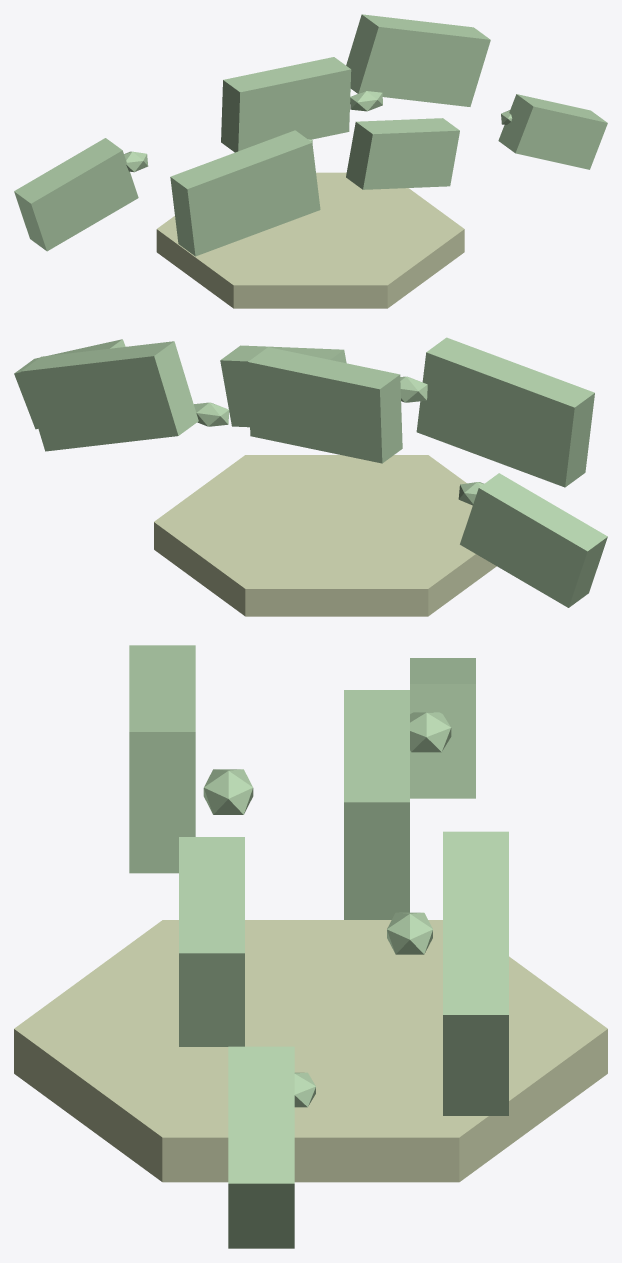
The model's file is COASTAL_GROUND_COVER_001_v002_LOD_CLOSE.glb.
3 views of the same model, one above another, from view 1: azimuth 30°, elevation 25°; view 2: azimuth 150°, elevation 25°; view 3: azimuth 270°, elevation 25° (orthographic). The views are drawn at different scales.
Parts seen in each view (by area): view 1: COASTAL_GROUND_COVER_001_LOD_CLOSE_GROUND_SOCKET, COASTAL_GROUND_COVER_001_LOD_CLOSE_PATCH_002, COASTAL_GROUND_COVER_001_LOD_CLOSE_PATCH_005, COASTAL_GROUND_COVER_001_LOD_CLOSE_PATCH_003, COASTAL_GROUND_COVER_001_LOD_CLOSE_PATCH_001, COASTAL_GROUND_COVER_001_LOD_CLOSE_PATCH_004, COASTAL_GROUND_COVER_001_LOD_CLOSE_PATCH_006, COASTAL_GROUND_COVER_001_LOD_CLOSE_CLUSTER_003, COASTAL_GROUND_COVER_001_LOD_CLOSE_CLUSTER_001; view 2: COASTAL_GROUND_COVER_001_LOD_CLOSE_GROUND_SOCKET, COASTAL_GROUND_COVER_001_LOD_CLOSE_PATCH_002, COASTAL_GROUND_COVER_001_LOD_CLOSE_PATCH_005, COASTAL_GROUND_COVER_001_LOD_CLOSE_PATCH_003, COASTAL_GROUND_COVER_001_LOD_CLOSE_PATCH_001, COASTAL_GROUND_COVER_001_LOD_CLOSE_PATCH_004, COASTAL_GROUND_COVER_001_LOD_CLOSE_PATCH_006, COASTAL_GROUND_COVER_001_LOD_CLOSE_CLUSTER_003, COASTAL_GROUND_COVER_001_LOD_CLOSE_CLUSTER_002, COASTAL_GROUND_COVER_001_LOD_CLOSE_CLUSTER_001; view 3: COASTAL_GROUND_COVER_001_LOD_CLOSE_GROUND_SOCKET, COASTAL_GROUND_COVER_001_LOD_CLOSE_PATCH_005, COASTAL_GROUND_COVER_001_LOD_CLOSE_PATCH_003, COASTAL_GROUND_COVER_001_LOD_CLOSE_PATCH_002, COASTAL_GROUND_COVER_001_LOD_CLOSE_PATCH_004, COASTAL_GROUND_COVER_001_LOD_CLOSE_PATCH_006, COASTAL_GROUND_COVER_001_LOD_CLOSE_PATCH_001, COASTAL_GROUND_COVER_001_LOD_CLOSE_CLUSTER_002, COASTAL_GROUND_COVER_001_LOD_CLOSE_CLUSTER_003, COASTAL_GROUND_COVER_001_LOD_CLOSE_CLUSTER_001.
Boxes of the visible parts, x1=… form: COASTAL_GROUND_COVER_001_LOD_CLOSE_GROUND_SOCKET: x1=156, y1=172, x2=464, y2=308; COASTAL_GROUND_COVER_001_LOD_CLOSE_PATCH_002: x1=170, y1=130, x2=320, y2=256; COASTAL_GROUND_COVER_001_LOD_CLOSE_PATCH_005: x1=346, y1=14, x2=490, y2=106; COASTAL_GROUND_COVER_001_LOD_CLOSE_PATCH_003: x1=221, y1=57, x2=351, y2=152; COASTAL_GROUND_COVER_001_LOD_CLOSE_PATCH_001: x1=14, y1=138, x2=138, y2=251; COASTAL_GROUND_COVER_001_LOD_CLOSE_PATCH_004: x1=346, y1=118, x2=459, y2=189; COASTAL_GROUND_COVER_001_LOD_CLOSE_PATCH_006: x1=498, y1=94, x2=607, y2=169; COASTAL_GROUND_COVER_001_LOD_CLOSE_CLUSTER_003: x1=350, y1=91, x2=382, y2=111; COASTAL_GROUND_COVER_001_LOD_CLOSE_CLUSTER_001: x1=124, y1=151, x2=148, y2=172; COASTAL_GROUND_COVER_001_LOD_CLOSE_GROUND_SOCKET: x1=154, y1=455, x2=496, y2=616; COASTAL_GROUND_COVER_001_LOD_CLOSE_PATCH_002: x1=416, y1=337, x2=594, y2=487; COASTAL_GROUND_COVER_001_LOD_CLOSE_PATCH_005: x1=21, y1=341, x2=198, y2=451; COASTAL_GROUND_COVER_001_LOD_CLOSE_PATCH_003: x1=248, y1=347, x2=402, y2=463; COASTAL_GROUND_COVER_001_LOD_CLOSE_PATCH_001: x1=460, y1=473, x2=607, y2=607; COASTAL_GROUND_COVER_001_LOD_CLOSE_PATCH_004: x1=220, y1=345, x2=346, y2=427; COASTAL_GROUND_COVER_001_LOD_CLOSE_PATCH_006: x1=14, y1=339, x2=125, y2=429; COASTAL_GROUND_COVER_001_LOD_CLOSE_CLUSTER_003: x1=194, y1=402, x2=229, y2=426; COASTAL_GROUND_COVER_001_LOD_CLOSE_CLUSTER_002: x1=400, y1=376, x2=427, y2=402; COASTAL_GROUND_COVER_001_LOD_CLOSE_CLUSTER_001: x1=458, y1=482, x2=483, y2=505; COASTAL_GROUND_COVER_001_LOD_CLOSE_GROUND_SOCKET: x1=14, y1=920, x2=607, y2=1182; COASTAL_GROUND_COVER_001_LOD_CLOSE_PATCH_005: x1=443, y1=831, x2=508, y2=1115; COASTAL_GROUND_COVER_001_LOD_CLOSE_PATCH_003: x1=344, y1=690, x2=409, y2=919; COASTAL_GROUND_COVER_001_LOD_CLOSE_PATCH_002: x1=129, y1=645, x2=195, y2=873; COASTAL_GROUND_COVER_001_LOD_CLOSE_PATCH_004: x1=179, y1=837, x2=244, y2=1046; COASTAL_GROUND_COVER_001_LOD_CLOSE_PATCH_006: x1=228, y1=1046, x2=294, y2=1248; COASTAL_GROUND_COVER_001_LOD_CLOSE_PATCH_001: x1=410, y1=658, x2=475, y2=798; COASTAL_GROUND_COVER_001_LOD_CLOSE_CLUSTER_002: x1=203, y1=769, x2=253, y2=814; COASTAL_GROUND_COVER_001_LOD_CLOSE_CLUSTER_003: x1=387, y1=912, x2=432, y2=954; COASTAL_GROUND_COVER_001_LOD_CLOSE_CLUSTER_001: x1=410, y1=712, x2=451, y2=752.
Bounding box in the file's own units: 1.43 × 0.4625 × 0.72.
